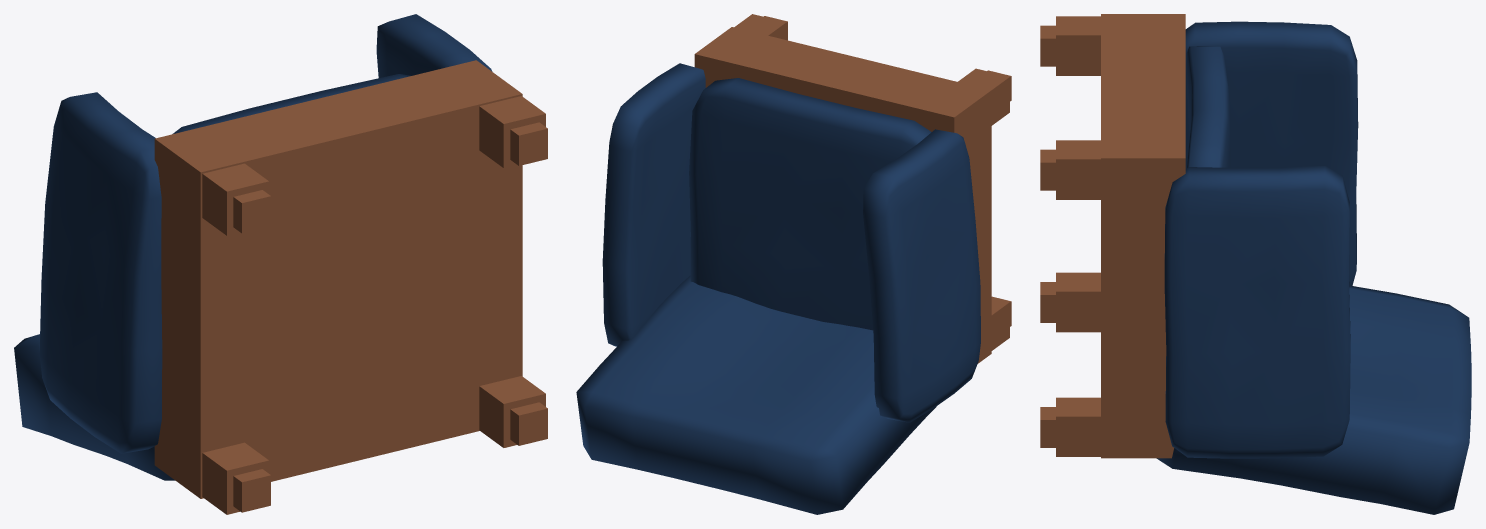
Rendered from Sillon_individual.fbx.
3 renders of one model, left to right at view 1: azimuth 30°, elevation 25°; view 2: azimuth 150°, elevation 25°; view 3: azimuth 270°, elevation 25°, orthographic. The views are drawn at different scales.
Visible parts, largest first — view 1: Cube.045; view 2: Cube.045; view 3: Cube.045.
Boxes of the visible parts, bbox=[...] form: Cube.045: bbox=[14, 14, 547, 514]; Cube.045: bbox=[576, 14, 1011, 514]; Cube.045: bbox=[1040, 14, 1471, 514].
Size of the model in its own units: 0.8769 by 0.8458 by 0.9171.
